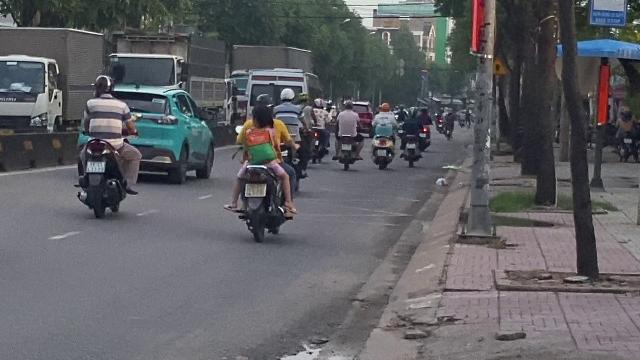helmet: (93, 75, 115, 97), (255, 94, 273, 106)
licenseplate: (245, 184, 265, 196), (87, 162, 105, 172)
motorcyclist: (226, 91, 298, 241), (71, 74, 141, 219)
nohelmet: (249, 103, 273, 127)
